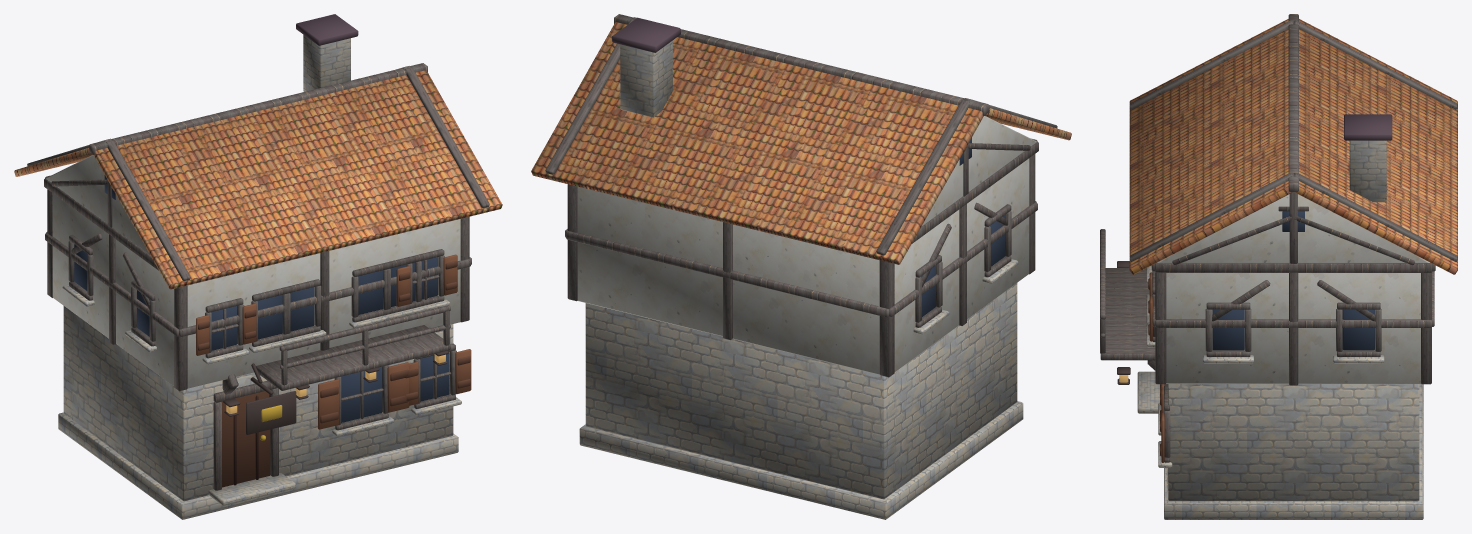
File: inn.gltf
3 views of the same model, side by side, from view 1: azimuth 30°, elevation 25°; view 2: azimuth 150°, elevation 25°; view 3: azimuth 270°, elevation 25° (orthographic). The views are drawn at different scales.
Parts seen in each view (by area): view 1: inn; view 2: inn; view 3: inn.
Boxes of the visible parts, x1=… form: inn: x1=14, y1=14, x2=502, y2=519; inn: x1=531, y1=14, x2=1071, y2=519; inn: x1=1100, y1=14, x2=1457, y2=519.
Size of the model in its own units: 8.68 by 8.98 by 7.69.
6 materials, 6 textured.
